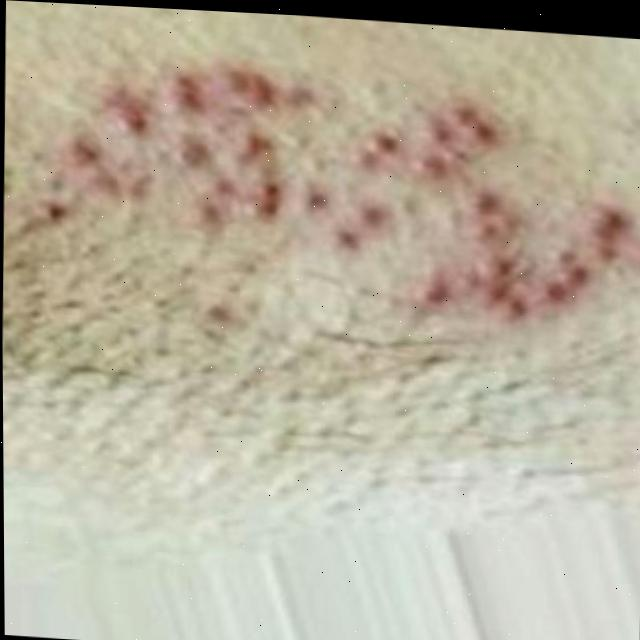Shingles: (33, 60, 640, 330)
